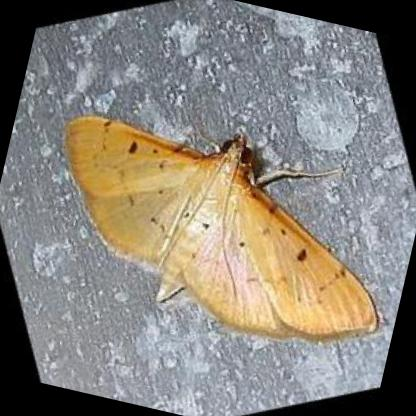Leaf Webber: (59, 116, 382, 342)
